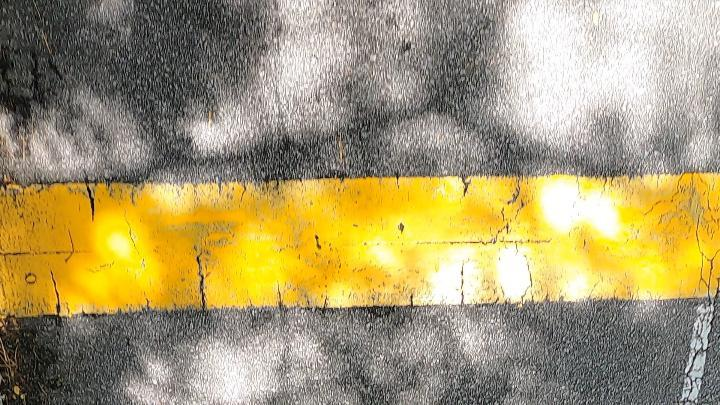Lane: (0, 173, 720, 317), (0, 173, 719, 315), (678, 300, 714, 404), (678, 303, 713, 403)
